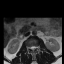CCS_normal: (32, 44, 34, 52)
LFS_normal: (36, 45, 38, 50)
LLS_normal: (34, 44, 36, 51)
RFS_normal: (28, 45, 30, 50)
RLS_normal: (30, 44, 32, 50)
